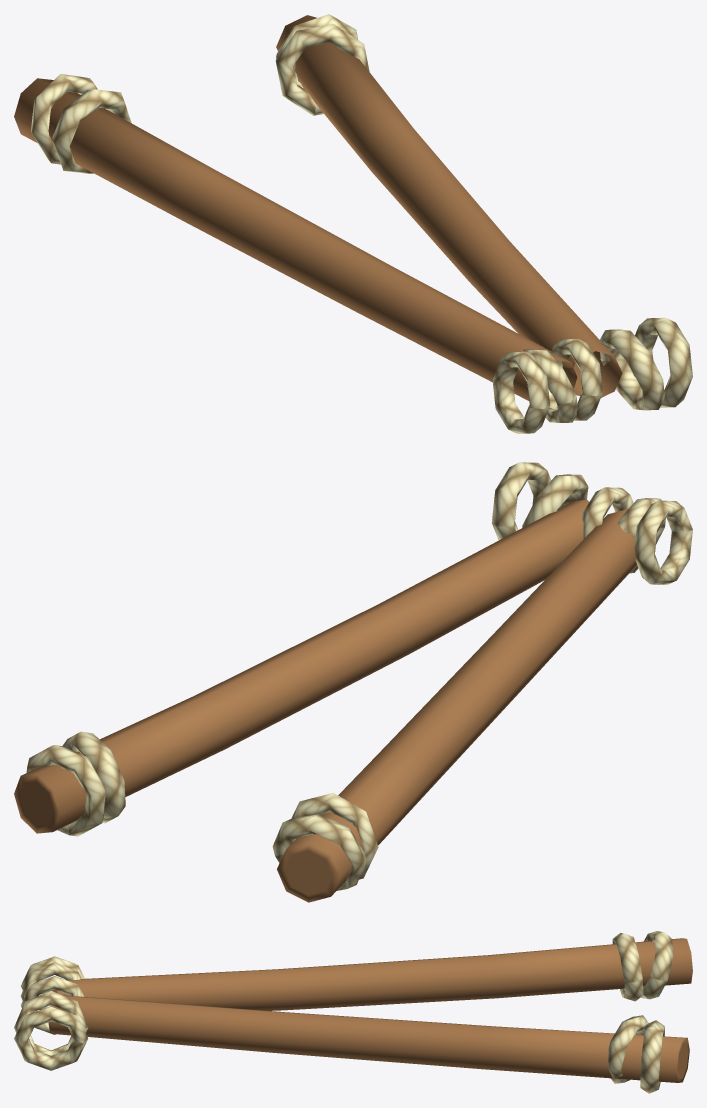
File: H_Renfort_02.fbx
The picture shows the model from 3 angles, top to bottom: view 1: azimuth 30°, elevation 25°; view 2: azimuth 150°, elevation 25°; view 3: azimuth 270°, elevation 25°; orthographic projection. The views are drawn at different scales.
Visible parts, largest first — view 1: H_Renfort_02; view 2: H_Renfort_02; view 3: H_Renfort_02.
Boxes of the visible parts, box(x1,y1,x2,y2) form: H_Renfort_02: box(14, 14, 692, 433); H_Renfort_02: box(14, 462, 692, 902); H_Renfort_02: box(14, 931, 692, 1093).
Bounding box in the file's own units: 89.04 × 23.73 × 208.
